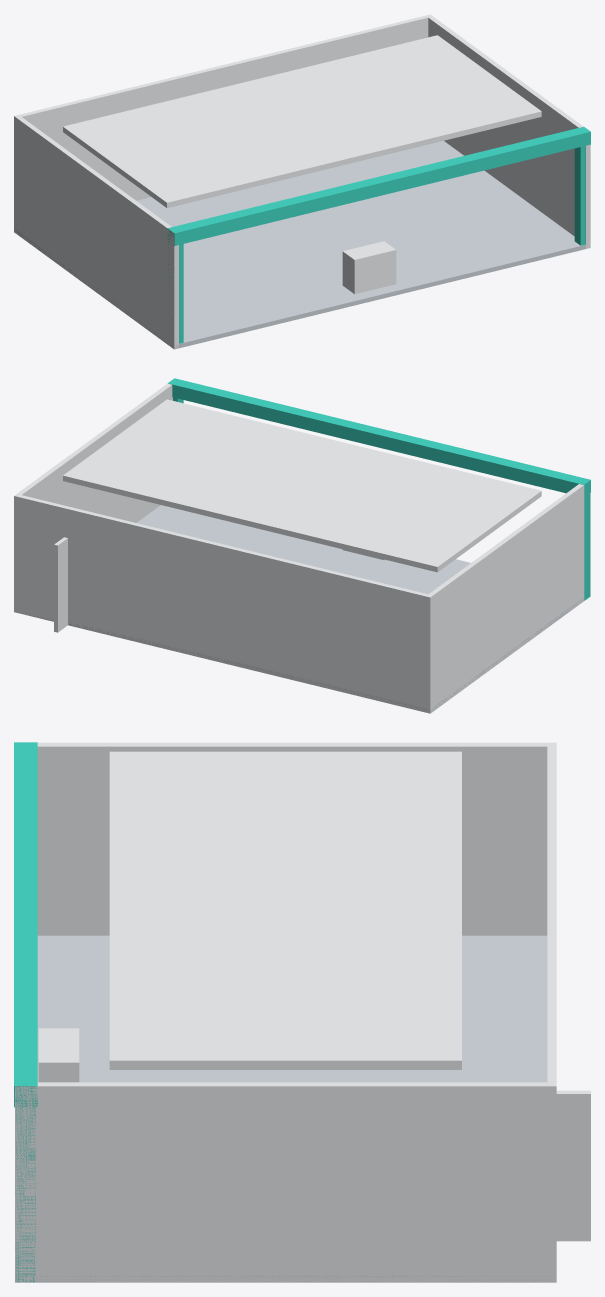
The picture shows the model from 3 angles, top to bottom: view 1: azimuth 30°, elevation 25°; view 2: azimuth 150°, elevation 25°; view 3: azimuth 270°, elevation 25°; orthographic projection. The views are drawn at different scales.
Visible parts, largest first — view 1: Exhibition Booth Concept; view 2: Exhibition Booth Concept; view 3: Exhibition Booth Concept.
Boxes of the visible parts, <box> form: Exhibition Booth Concept: <box>14,14,590,349</box>; Exhibition Booth Concept: <box>14,378,590,713</box>; Exhibition Booth Concept: <box>14,742,590,1282</box>.
Bounding box in the file's own units: 12 × 3.34 × 8.52.
